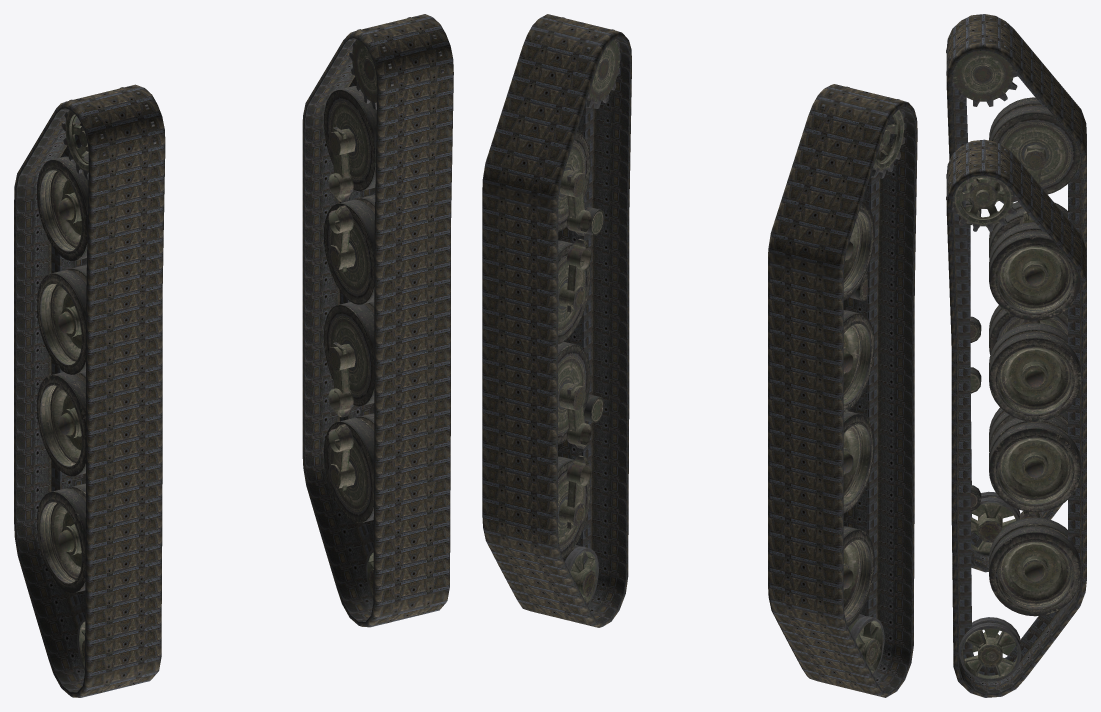
Rendered from Chassis.glb.
3 views of the same model, side by side, from view 1: azimuth 30°, elevation 25°; view 2: azimuth 150°, elevation 25°; view 3: azimuth 270°, elevation 25° (orthographic). The views are drawn at different scales.
Parts seen in each view (by area): view 1: set_2_group_0, set_3_group_0, set_1_group_0, set_0_group_0; view 2: set_2_group_0, set_3_group_0, set_1_group_0, set_0_group_0; view 3: set_1_group_0, set_3_group_0, set_0_group_0, set_2_group_0.
Part boxes in pixels (x1,y1,x2,y2): set_2_group_0: (14, 84, 165, 697); set_3_group_0: (302, 14, 453, 627); set_1_group_0: (323, 16, 443, 599); set_0_group_0: (36, 86, 156, 670); set_2_group_0: (768, 84, 917, 697); set_3_group_0: (482, 14, 631, 627); set_1_group_0: (536, 16, 620, 605); set_0_group_0: (821, 85, 905, 675); set_1_group_0: (946, 142, 1081, 681); set_3_group_0: (946, 139, 1086, 697); set_0_group_0: (946, 18, 1080, 556); set_2_group_0: (946, 14, 1086, 572).
Size of the model in its own units: 3.27 by 5.11 by 1.24.
4 materials, 4 textured.
